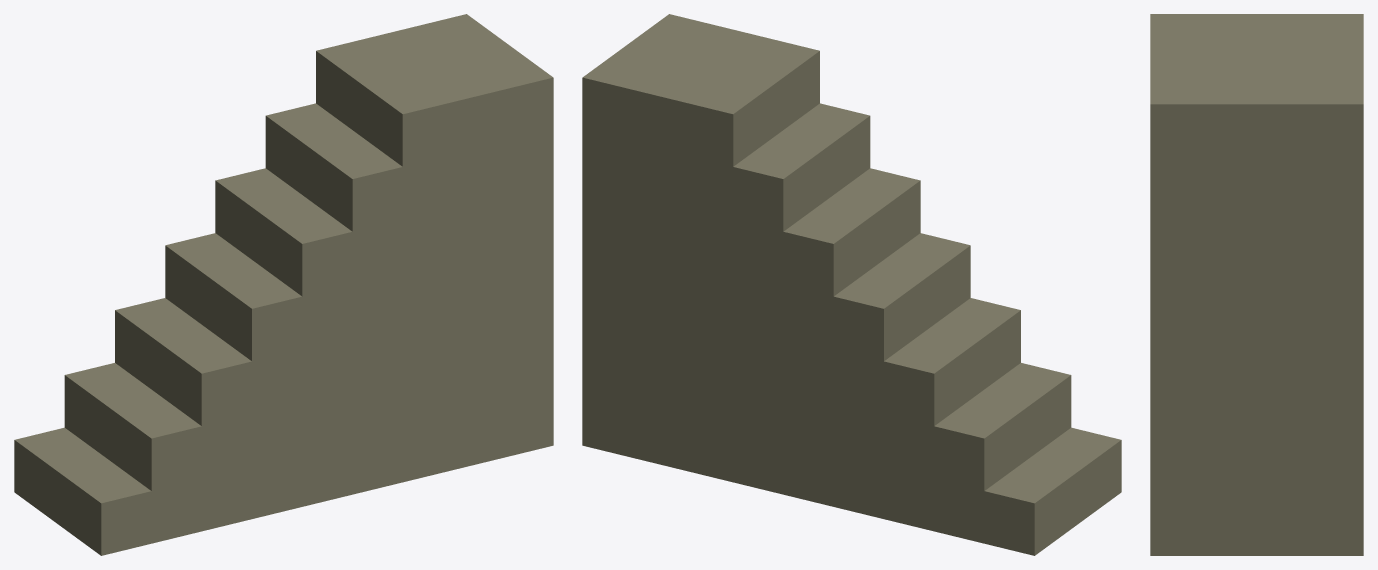
Rendered from stairs.glb.
3 renders of one model, left to right at view 1: azimuth 30°, elevation 25°; view 2: azimuth 150°, elevation 25°; view 3: azimuth 270°, elevation 25°, orthographic. The views are drawn at different scales.
Parts seen in each view (by area): view 1: Cube; view 2: Cube; view 3: Cube.
Part boxes in pixels (x1,y1,x2,y2): Cube: (14, 14, 553, 555); Cube: (582, 14, 1121, 555); Cube: (1150, 14, 1363, 555).
Bounding box in the file's own units: 18 × 14 × 5.98.
